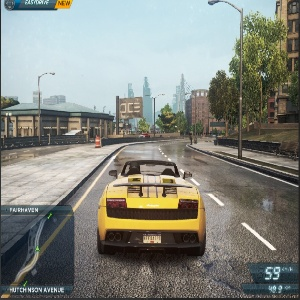building: (5, 93, 114, 138), (277, 3, 300, 125), (184, 82, 230, 138)
lamp post: (206, 1, 259, 162), (32, 67, 64, 148), (141, 88, 167, 142)
tree: (214, 16, 284, 137), (161, 107, 189, 134)
vehicle: (139, 131, 151, 139)
